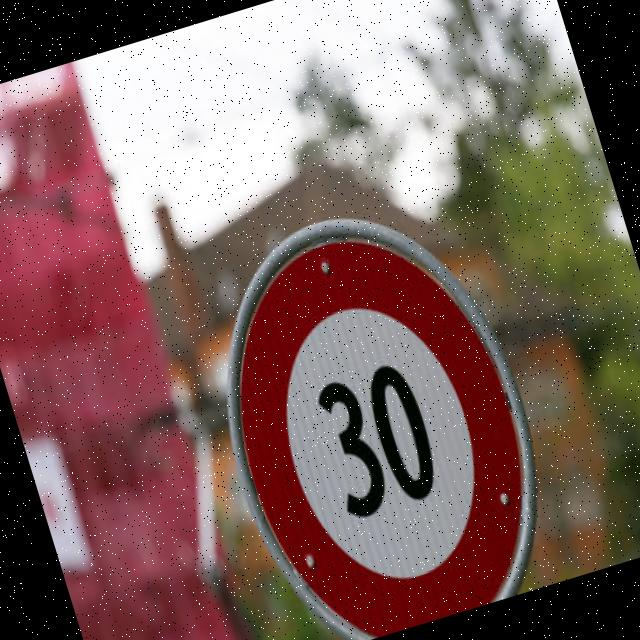speed_limit_30: (187, 182, 574, 640)
